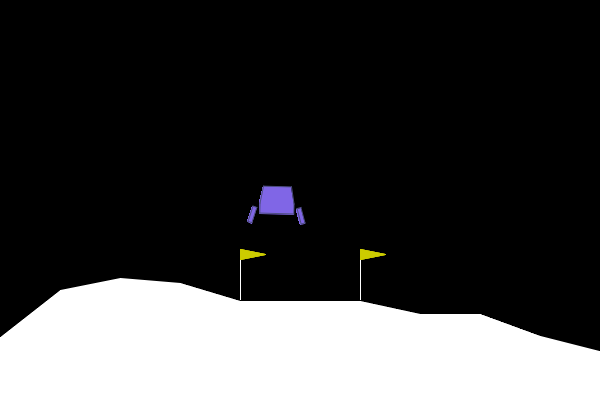lander: (246, 184, 307, 226)
